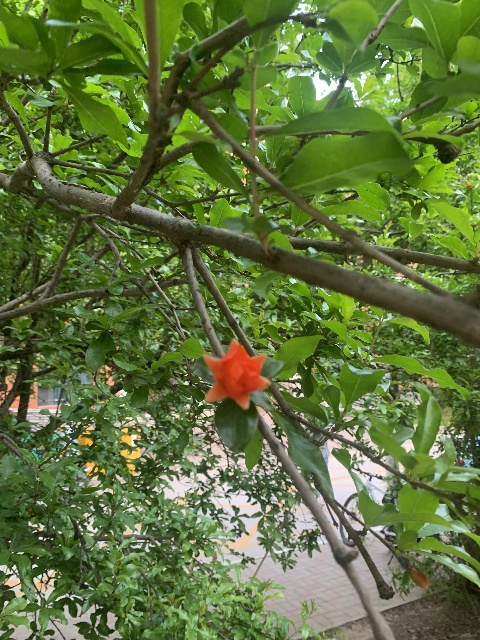bud: (409, 567, 429, 589)
flower: (202, 339, 270, 410)
